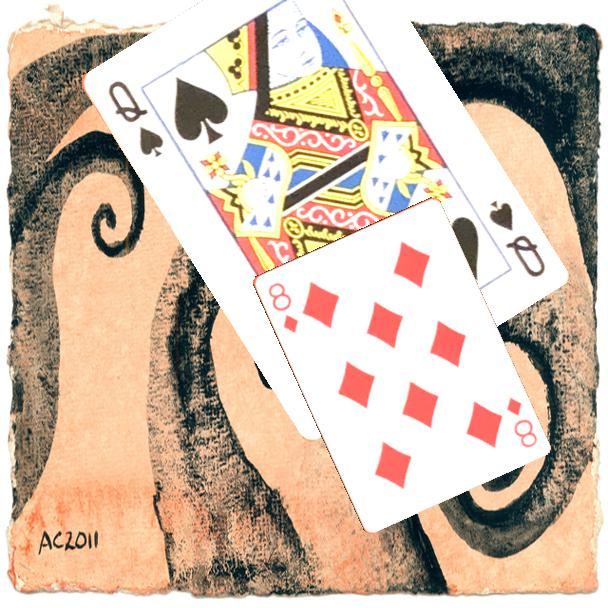d08: (502, 393, 540, 451), (264, 279, 301, 336)
s12: (484, 196, 548, 281), (103, 76, 166, 160)
